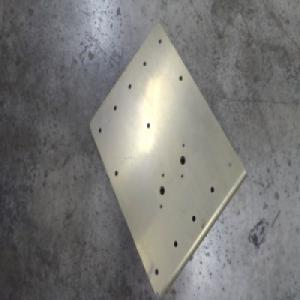MetalSheet: (88, 20, 247, 298)
